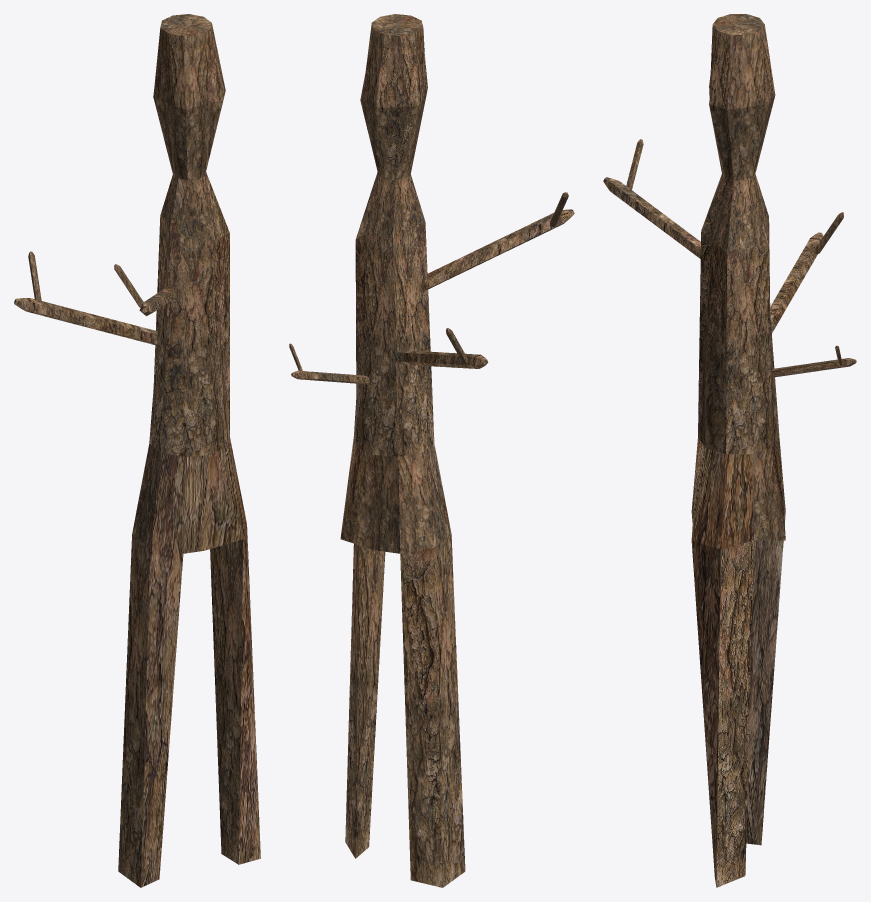
The model's file is humanoidtree_4.glb.
3 renders of one model, left to right at view 1: azimuth 30°, elevation 25°; view 2: azimuth 150°, elevation 25°; view 3: azimuth 270°, elevation 25°, orthographic.
Visible parts, largest first — view 1: tree4; view 2: tree4; view 3: tree4.
Part boxes in pixels (bbox=[...]): tree4: bbox=[14, 14, 260, 887]; tree4: bbox=[289, 14, 574, 887]; tree4: bbox=[603, 14, 856, 887].
Size of what is drawn, in the model's own units: 0.7698 by 3.18 by 0.8774.
1 material, 1 textured.
